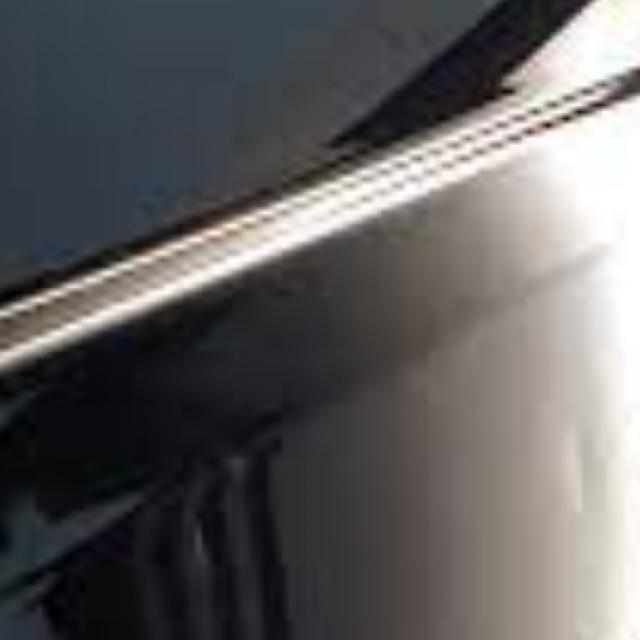dents: (552, 400, 640, 545)
